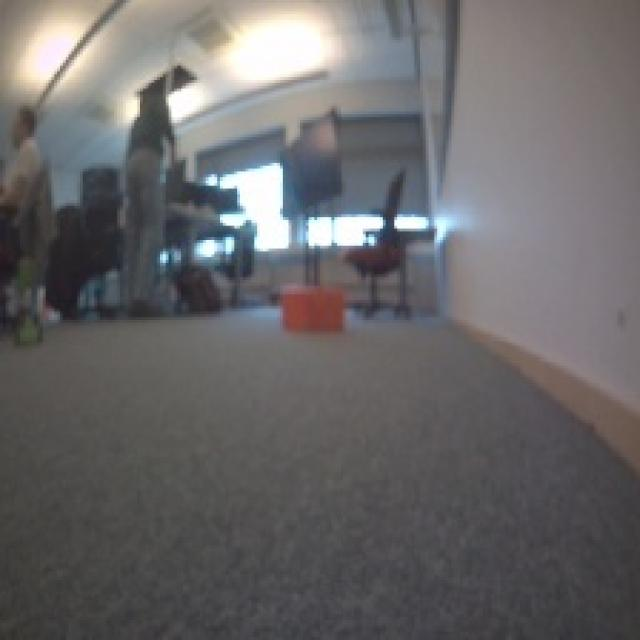robot: (5, 306, 48, 351)
target: (277, 280, 346, 331)
